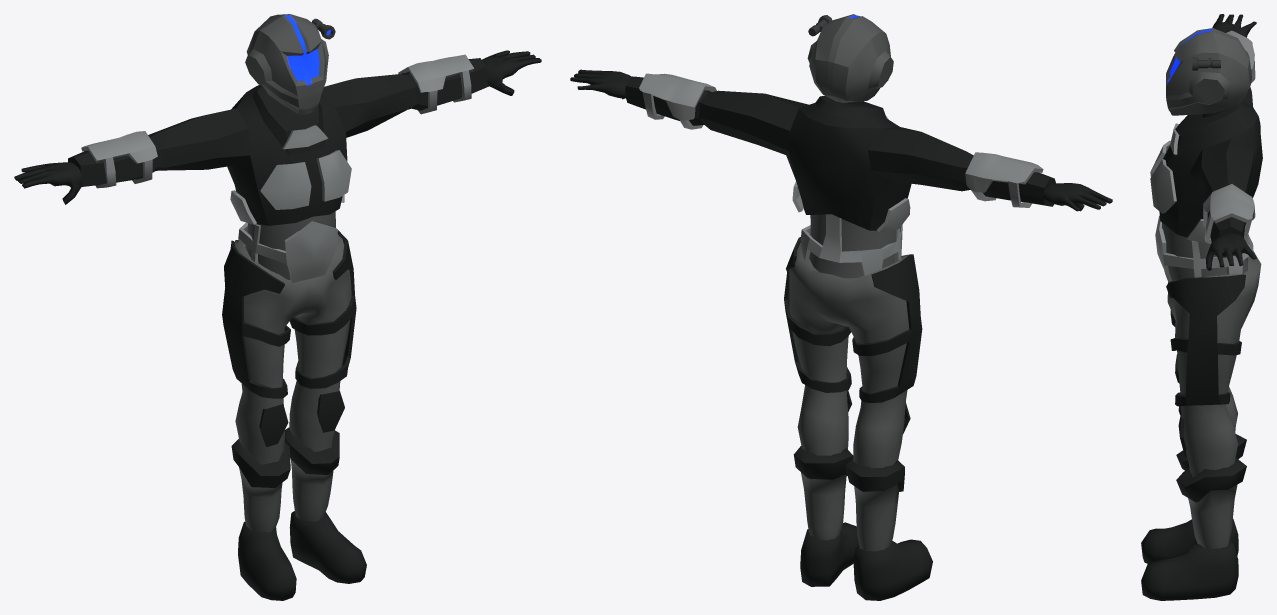
The model's file is marine_blue.gltf.
3 renders of one model, left to right at view 1: azimuth 30°, elevation 25°; view 2: azimuth 150°, elevation 25°; view 3: azimuth 270°, elevation 25°, orthographic. The views are drawn at different scales.
Parts seen in each view (by area): view 1: pasted__polySurface1952, polySurface1296, polySurface1298, polySurface1308, polySurface1310, polySurface1307, polySurface1301, polySurface1313, polySurface1304, polySurface1309, polySurface1300, pCylinder1; view 2: pasted__polySurface1952, polySurface1296, polySurface1310, polySurface1308, polySurface1298, polySurface1307, polySurface1301, pCylinder1, polySurface1309, polySurface1304, polySurface1313; view 3: pasted__polySurface1952, polySurface1296, polySurface1308, polySurface1298, polySurface1307, polySurface1310, polySurface1301, polySurface1309, polySurface1304, polySurface1313, pCylinder1, pCylinder3 (+2 smaller).
Part boxes in pixels (bbox=[...]): pasted__polySurface1952: bbox=[68, 58, 488, 225]; polySurface1296: bbox=[234, 234, 351, 464]; polySurface1298: bbox=[222, 228, 356, 398]; polySurface1308: bbox=[238, 511, 366, 600]; polySurface1310: bbox=[231, 427, 339, 532]; polySurface1307: bbox=[245, 14, 328, 114]; polySurface1301: bbox=[81, 54, 474, 188]; polySurface1313: bbox=[230, 150, 351, 224]; polySurface1304: bbox=[238, 221, 337, 282]; polySurface1309: bbox=[14, 50, 541, 204]; polySurface1300: bbox=[259, 391, 344, 446]; pCylinder1: bbox=[245, 211, 335, 279]; pasted__polySurface1952: bbox=[625, 76, 1055, 230]; polySurface1296: bbox=[789, 242, 909, 468]; polySurface1310: bbox=[793, 446, 904, 551]; polySurface1308: bbox=[800, 522, 932, 600]; polySurface1298: bbox=[784, 237, 922, 402]; polySurface1307: bbox=[807, 14, 893, 104]; polySurface1301: bbox=[639, 73, 1043, 207]; pCylinder1: bbox=[809, 214, 901, 278]; polySurface1309: bbox=[570, 69, 1112, 211]; polySurface1304: bbox=[800, 214, 902, 275]; polySurface1313: bbox=[792, 181, 910, 231]; pasted__polySurface1952: bbox=[1159, 30, 1262, 241]; polySurface1296: bbox=[1167, 251, 1261, 477]; polySurface1308: bbox=[1141, 519, 1238, 600]; polySurface1298: bbox=[1166, 274, 1245, 406]; polySurface1307: bbox=[1166, 28, 1251, 117]; polySurface1310: bbox=[1176, 433, 1246, 549]; polySurface1301: bbox=[1203, 30, 1255, 243]; polySurface1309: bbox=[1205, 14, 1256, 270]; polySurface1304: bbox=[1155, 216, 1253, 282]; polySurface1313: bbox=[1150, 140, 1210, 244]; pCylinder1: bbox=[1162, 223, 1247, 280]; pCylinder3: bbox=[1192, 57, 1220, 70].
Bounding box in the file's own units: 1.79 × 1.82 × 0.3684.
Materials: 1 (1 with a texture image).
